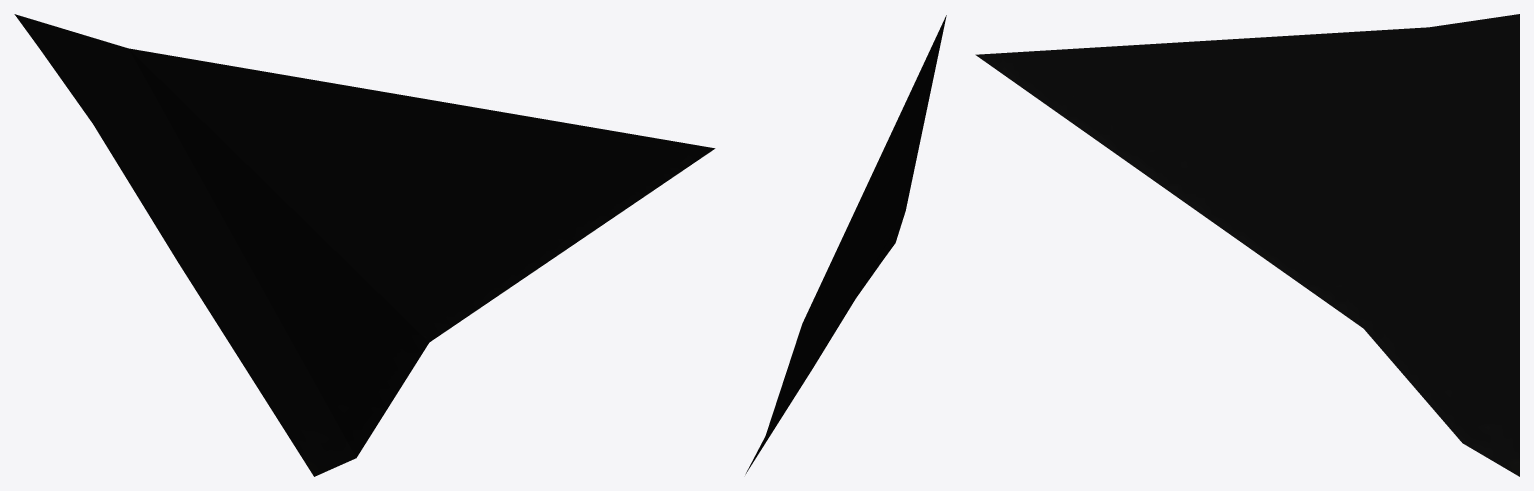
The picture shows the model from 3 angles, left to right: view 1: azimuth 30°, elevation 25°; view 2: azimuth 150°, elevation 25°; view 3: azimuth 270°, elevation 25°; orthographic projection. The views are drawn at different scales.
Size of the model in its own units: 1.12 by 2.22 by 2.6.
Materials: 1 (1 with a texture image).
